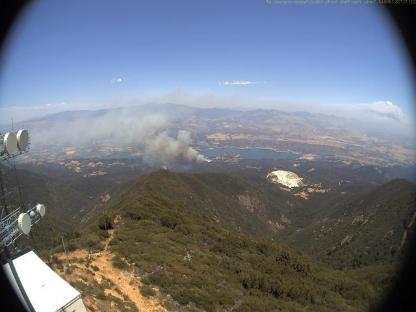smoke: (51, 94, 215, 172)
